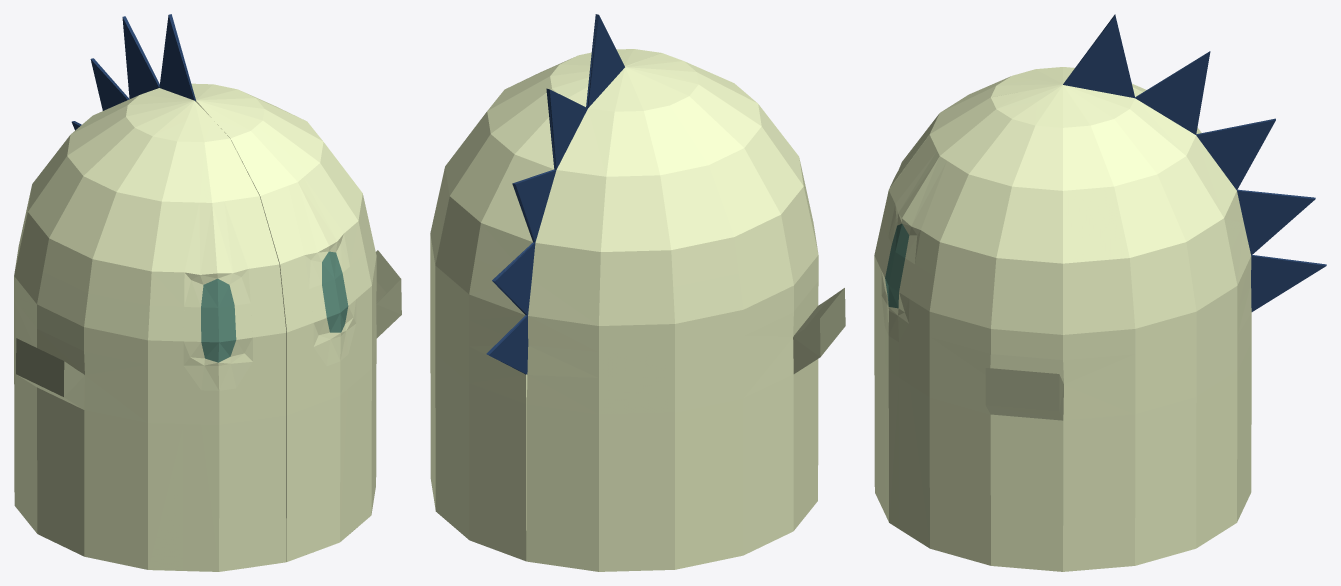
The model's file is minion_with_weird_face.dae.
The picture shows the model from 3 angles, left to right: view 1: azimuth 30°, elevation 25°; view 2: azimuth 150°, elevation 25°; view 3: azimuth 270°, elevation 25°; orthographic projection. The views are drawn at different scales.
Parts seen in each view (by area): view 1: Sphere; view 2: Sphere; view 3: Sphere.
Part boxes in pixels (<box>): Sphere: <box>14,14,401,571</box>; Sphere: <box>430,14,845,571</box>; Sphere: <box>874,14,1326,571</box>.
Size of the model in its own units: 2.31 by 2.42 by 2.83.
Materials: 4 (4 with a texture image).
